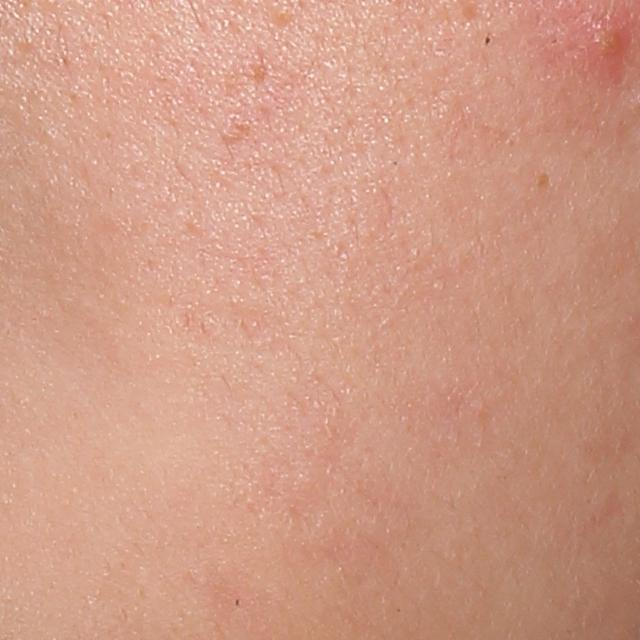atrophic_scar: (460, 2, 489, 30)
papule: (586, 17, 634, 64)
